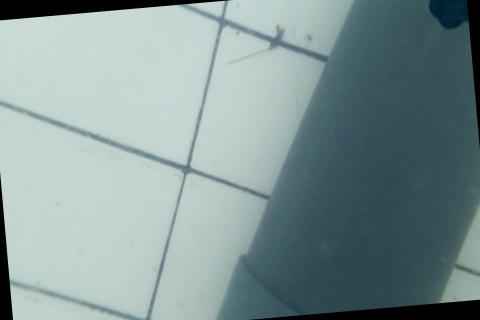kebocoran: (427, 0, 469, 32)
